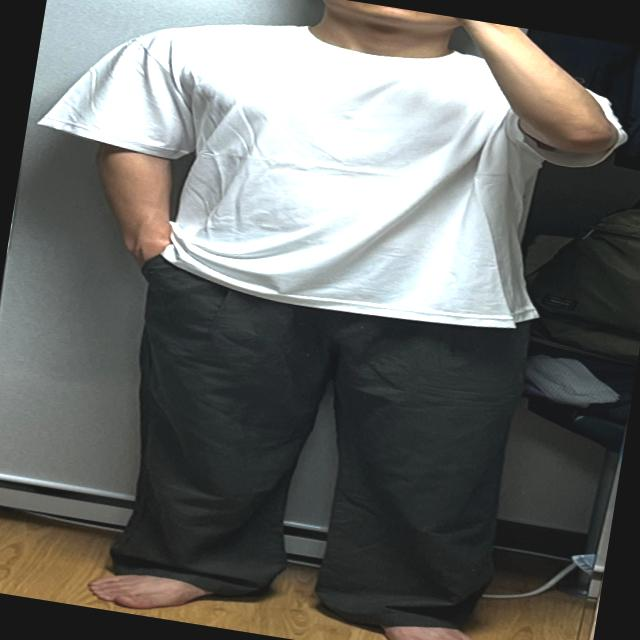denimpants: (104, 258, 542, 640)
shortsleeve: (20, 0, 634, 351)
